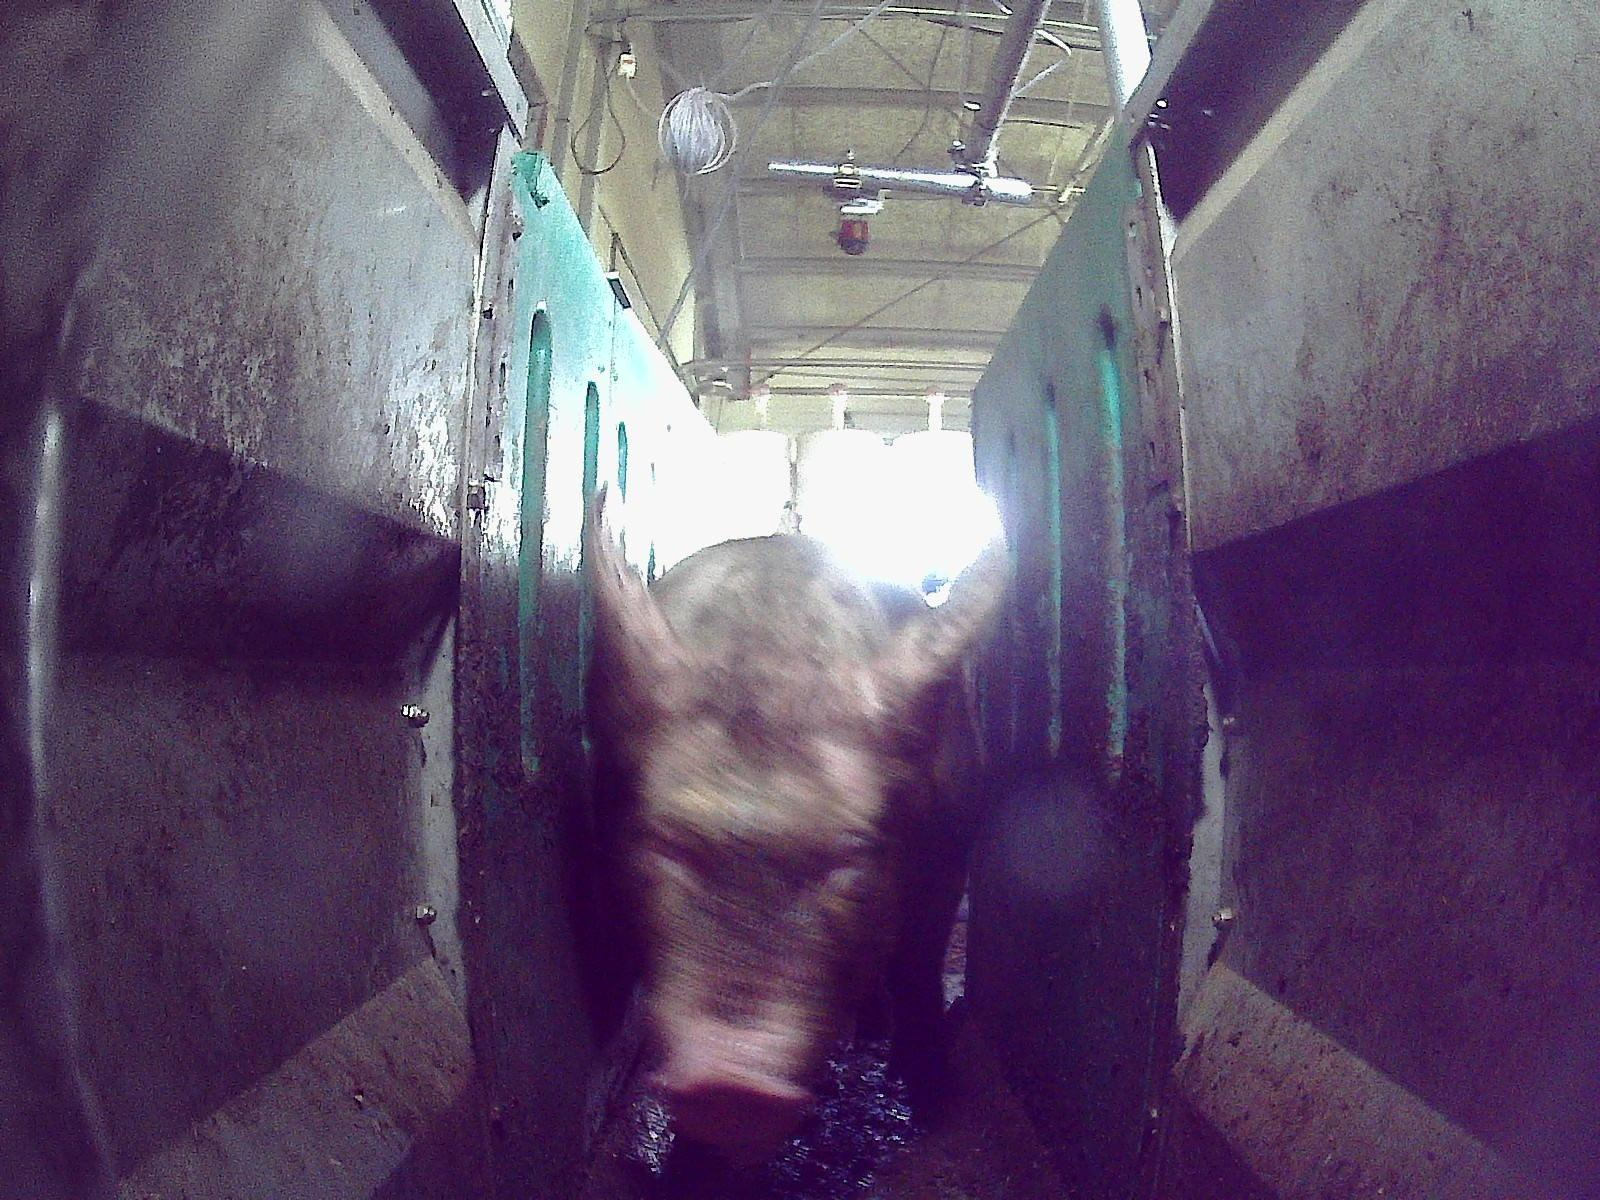Face: (625, 632, 916, 1159)
